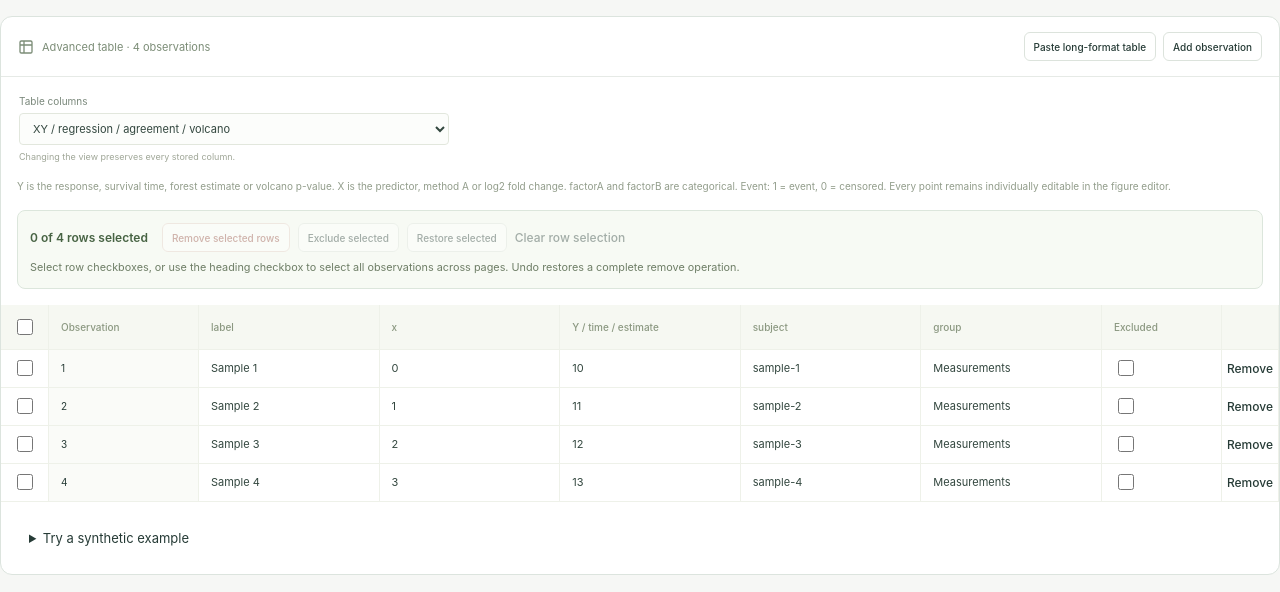
it: removes selected observations together while retaining unselected IDs and measurements
Click the checkbox named "Select observation 1".
click(25, 368)  # box left=17, top=360, right=33, bottom=376
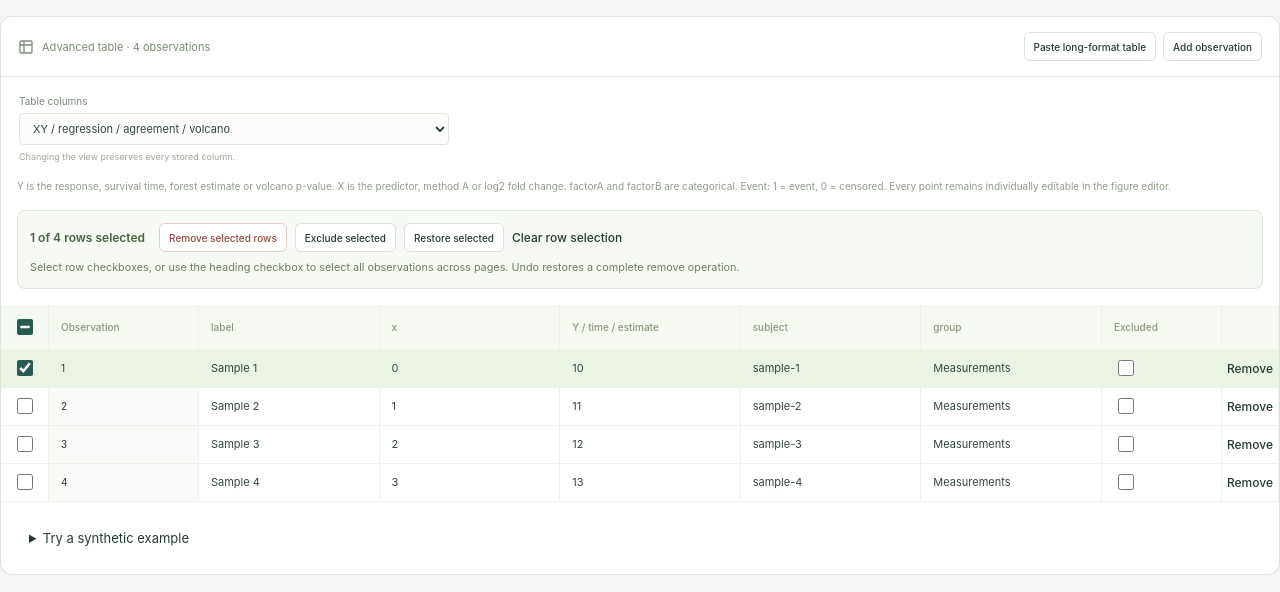
Click the checkbox named "Select observation 3".
click(25, 444)  # box left=17, top=436, right=33, bottom=452
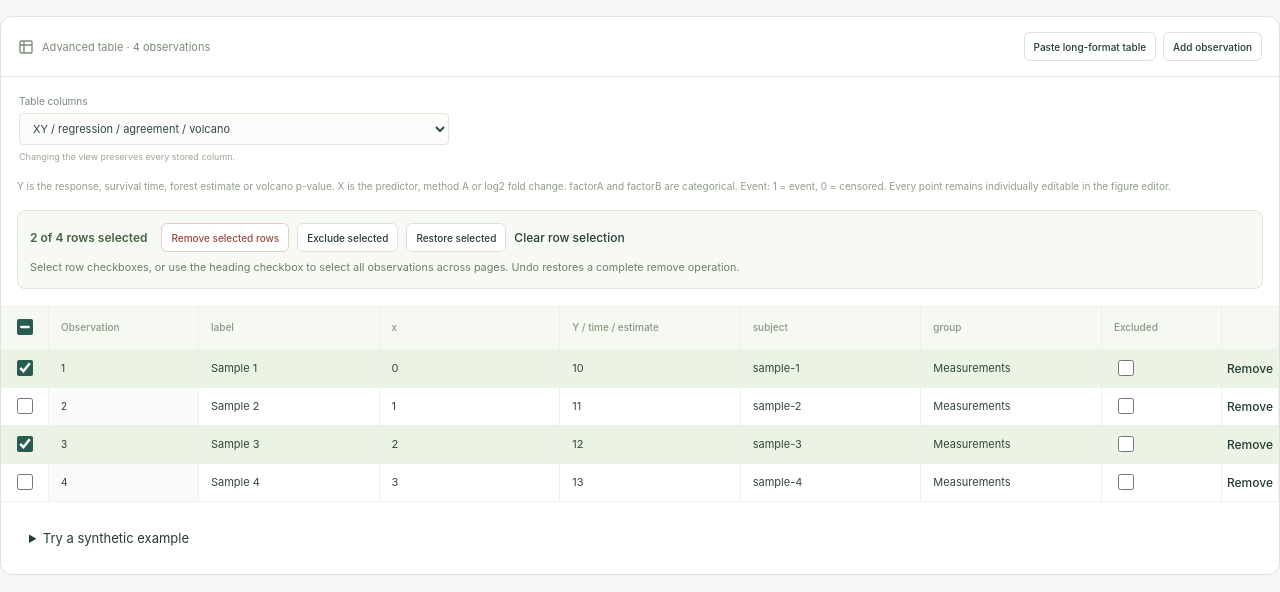
Expected: the text "2 of 4 rows selected" is shown, left=30, top=230, right=148, bottom=245
Click the button "Remove selected rows".
click(225, 238)  # box left=162, top=223, right=289, bottom=252
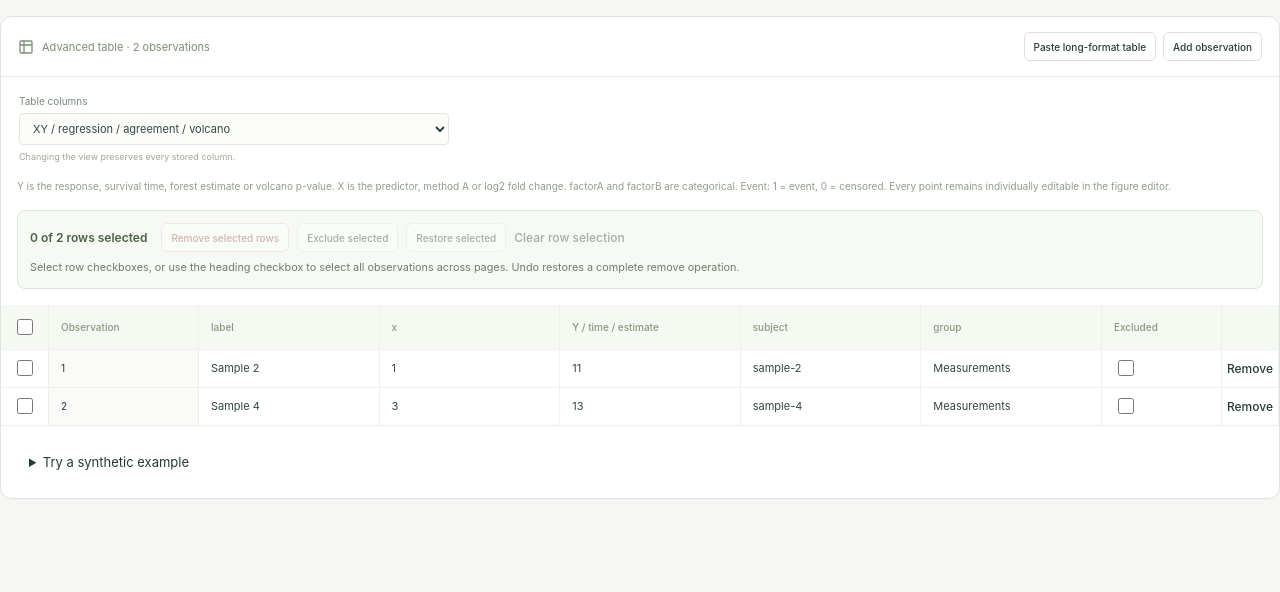
Expected: the text "0 of 2 rows selected" is shown, left=30, top=230, right=147, bottom=245
Expected: the button "Remove selected rows" is disabled, left=161, top=223, right=289, bottom=252
